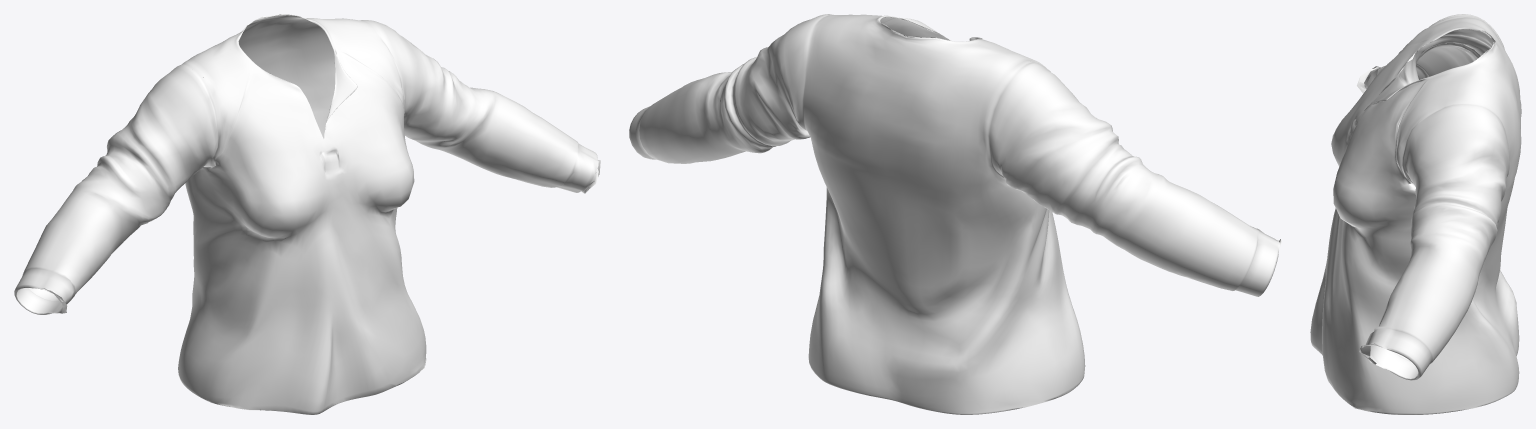
Rendered from Longsleeve.glb.
3 renders of one model, left to right at view 1: azimuth 30°, elevation 25°; view 2: azimuth 150°, elevation 25°; view 3: azimuth 270°, elevation 25°, orthographic. The views are drawn at different scales.
Visible parts, largest first — view 1: Newport_Shirt_10879.001; view 2: Newport_Shirt_10879.001; view 3: Newport_Shirt_10879.001.
Part boxes in pixels (bbox=[...]): Newport_Shirt_10879.001: bbox=[14, 14, 600, 414]; Newport_Shirt_10879.001: bbox=[629, 14, 1281, 414]; Newport_Shirt_10879.001: bbox=[1310, 14, 1521, 414].
Bounding box in the file's own units: 21.47 × 11.57 × 6.82.
Materials: 1 (1 with a texture image).
